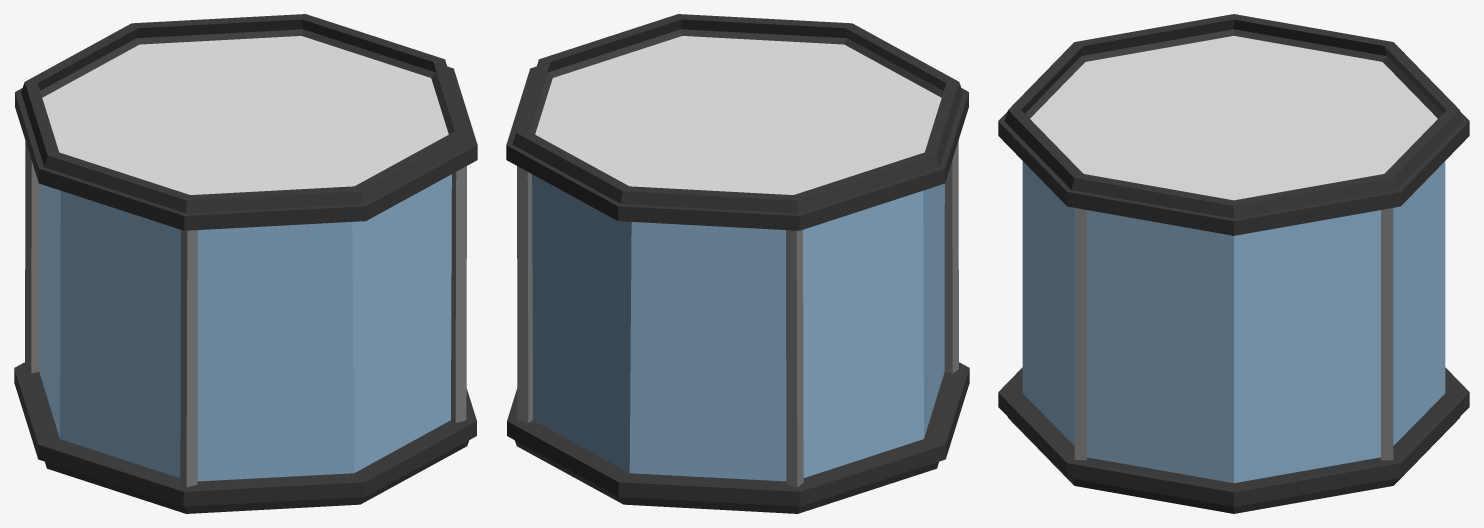
Rendered from Drum Tom.fbx.
3 renders of one model, left to right at view 1: azimuth 30°, elevation 25°; view 2: azimuth 150°, elevation 25°; view 3: azimuth 270°, elevation 25°, orthographic.
Visible parts, largest first — view 1: Drum Tom; view 2: Drum Tom; view 3: Drum Tom.
Part boxes in pixels (bbox=[...]): Drum Tom: bbox=[14, 14, 477, 513]; Drum Tom: bbox=[506, 14, 969, 513]; Drum Tom: bbox=[998, 14, 1469, 513].
Size of the model in its own units: 0.7258 by 0.5245 by 0.7246.
